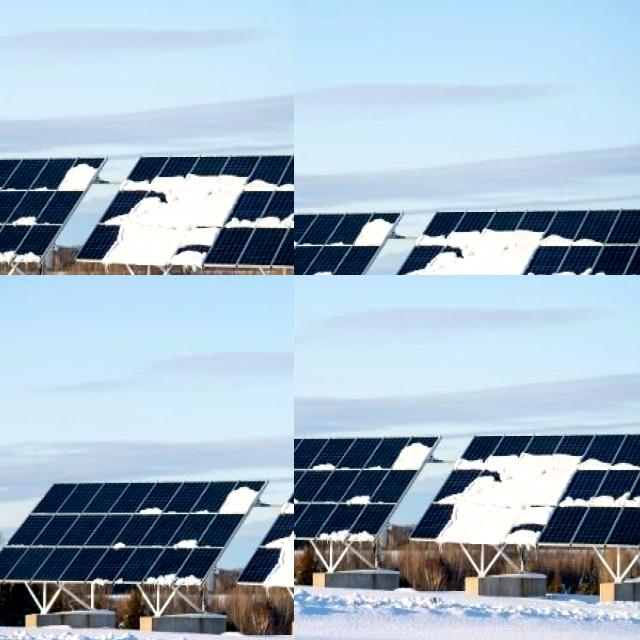panel: (454, 451, 570, 494), (437, 496, 549, 540), (299, 444, 378, 480), (386, 433, 439, 486), (569, 487, 640, 517), (314, 526, 382, 556), (581, 445, 640, 478), (328, 486, 400, 511), (294, 517, 318, 554), (294, 484, 319, 511)
shadow: (120, 299, 238, 425), (294, 31, 372, 157)
